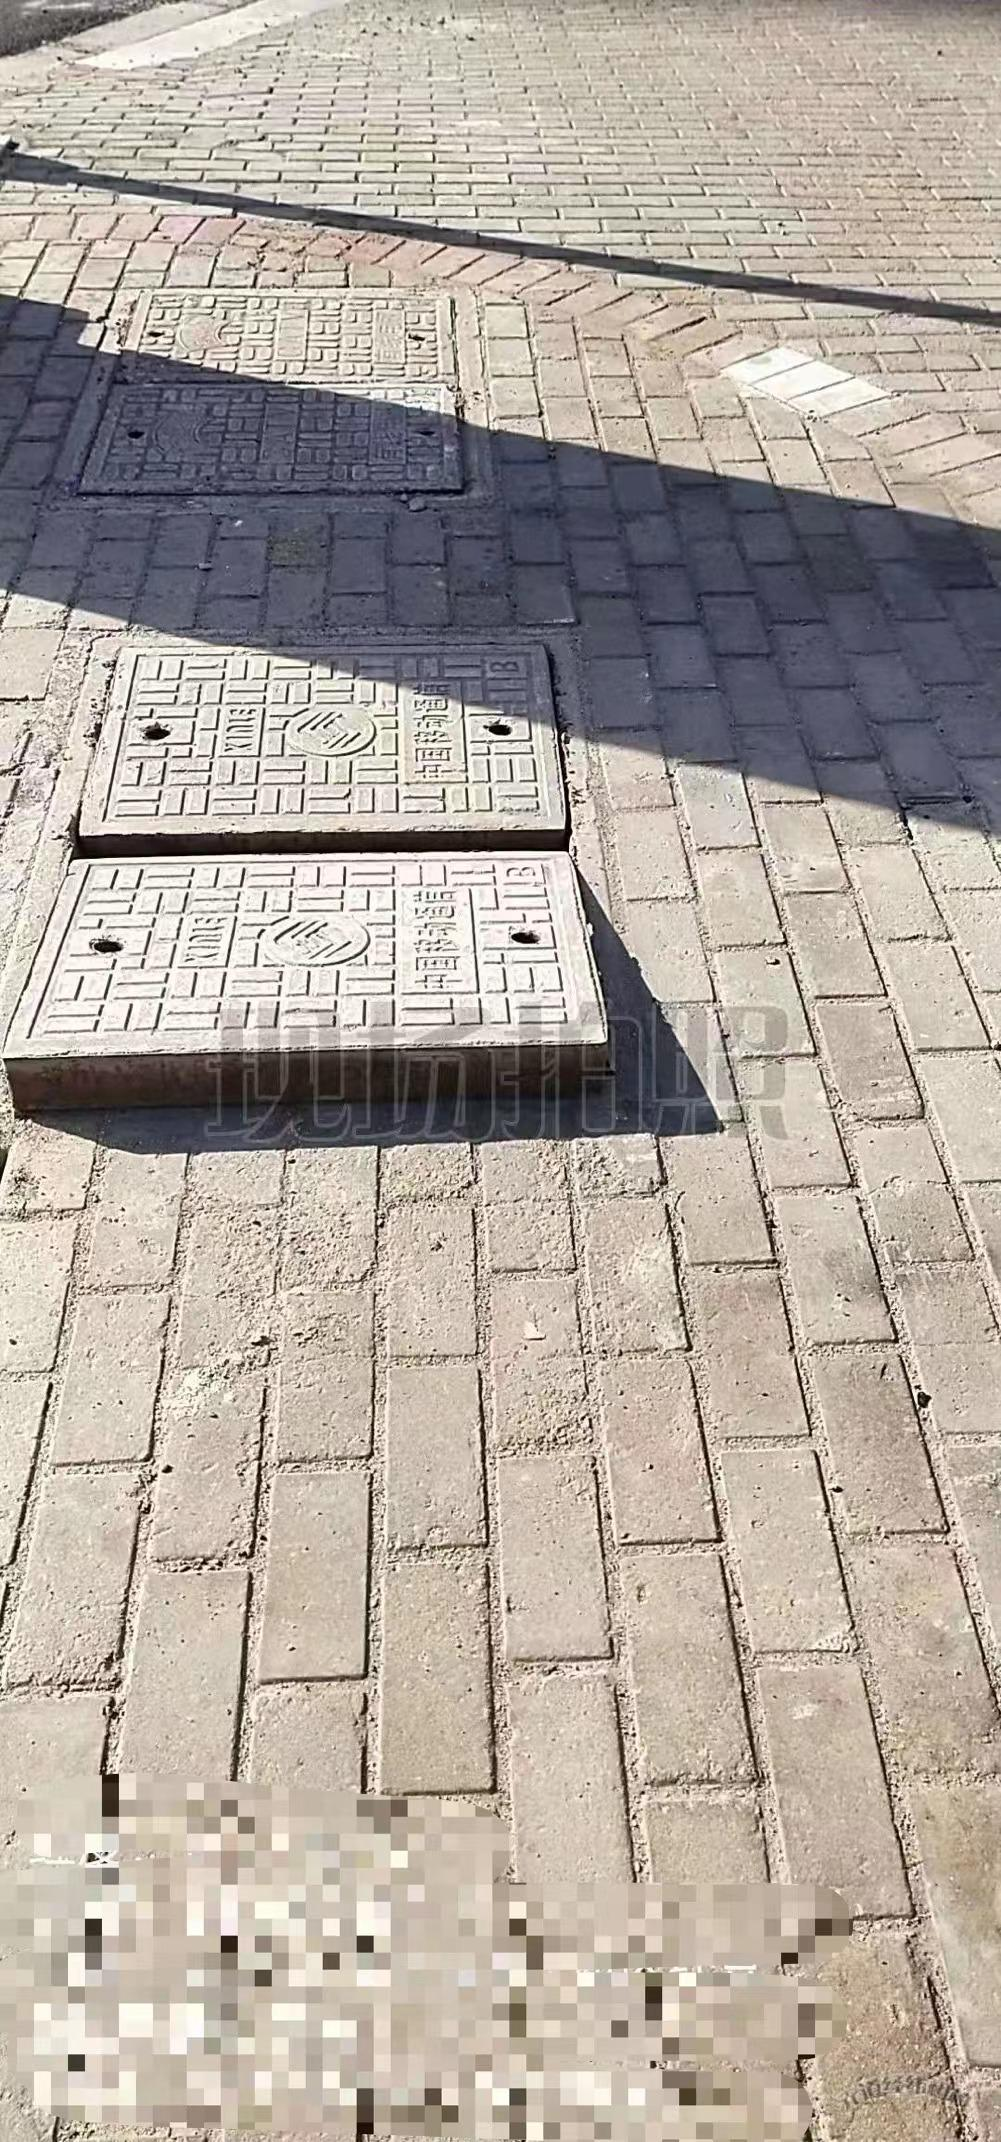wellcover: (0, 598, 722, 1161), (48, 249, 513, 541)
